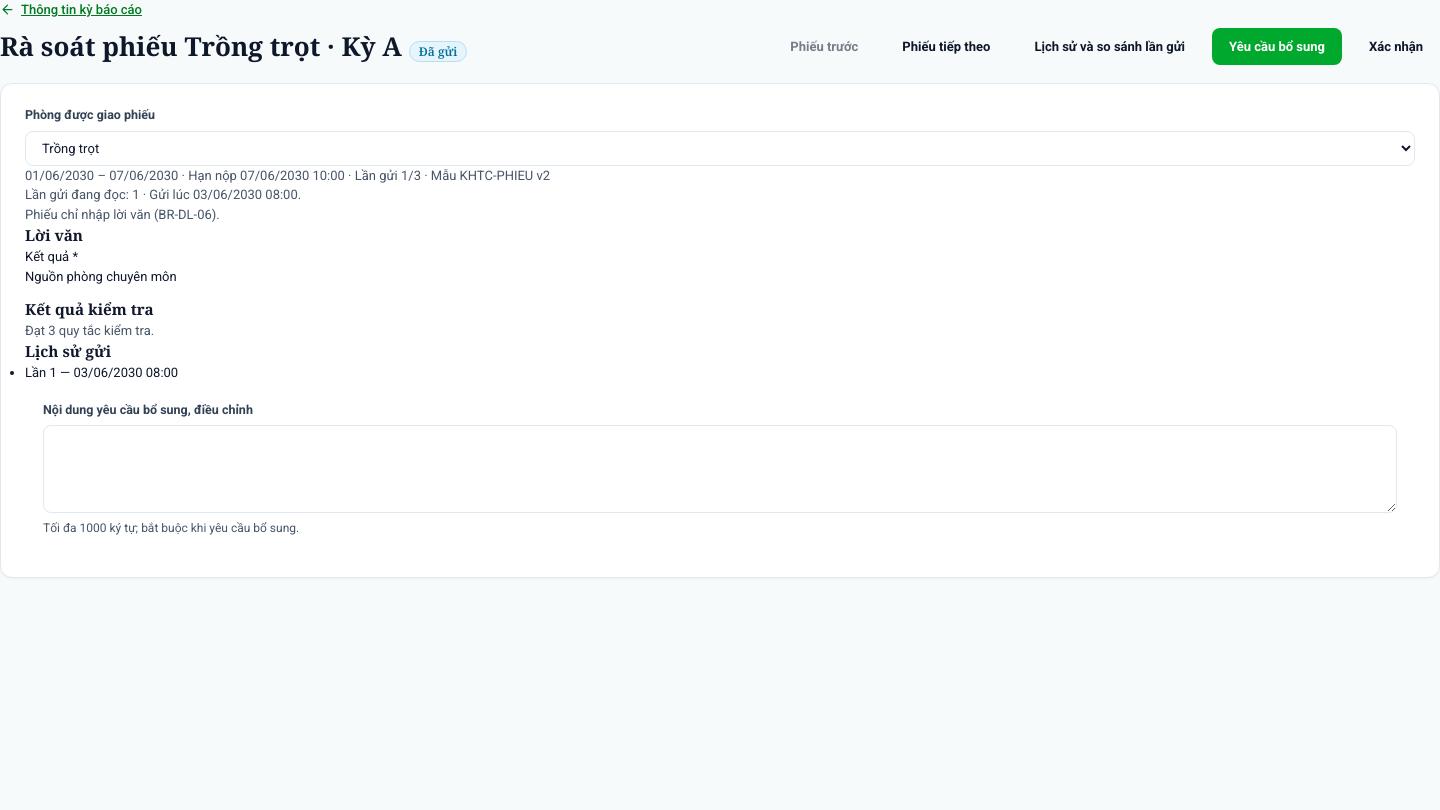
Test case: review241 — phản hồi và vòng đời tài nguyên › HTTP 401 buộc đọc lại và không báo thành công
What coordinates should you click on to do the following:
click the button "Xác nhận"
I would click on:
 (1396, 46)
Its box is [1352,28,1439,65].
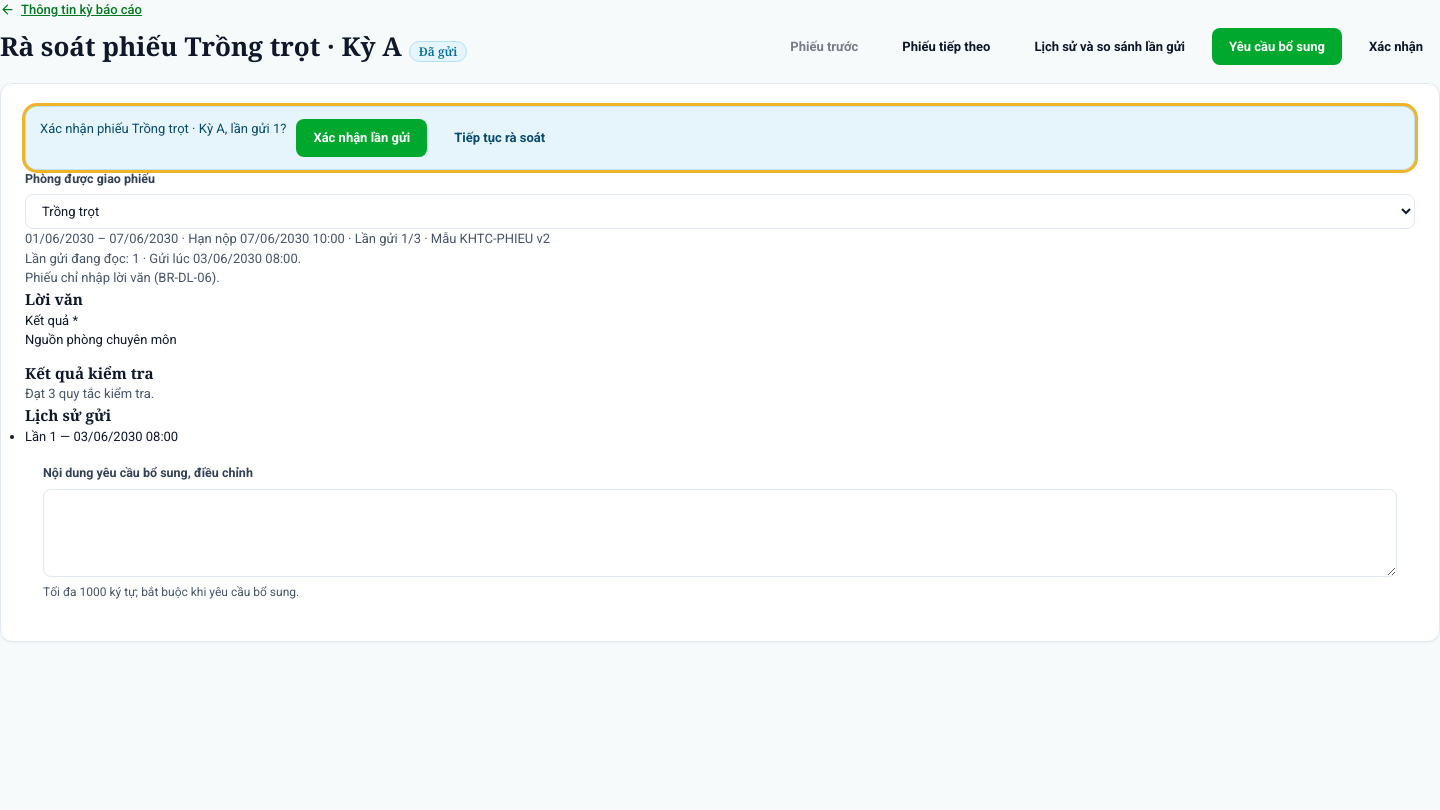
What coordinates should you click on to do the following:
click the button "Xác nhận lần gửi"
I would click on:
 (362, 138)
Its box is [296,119,427,156].
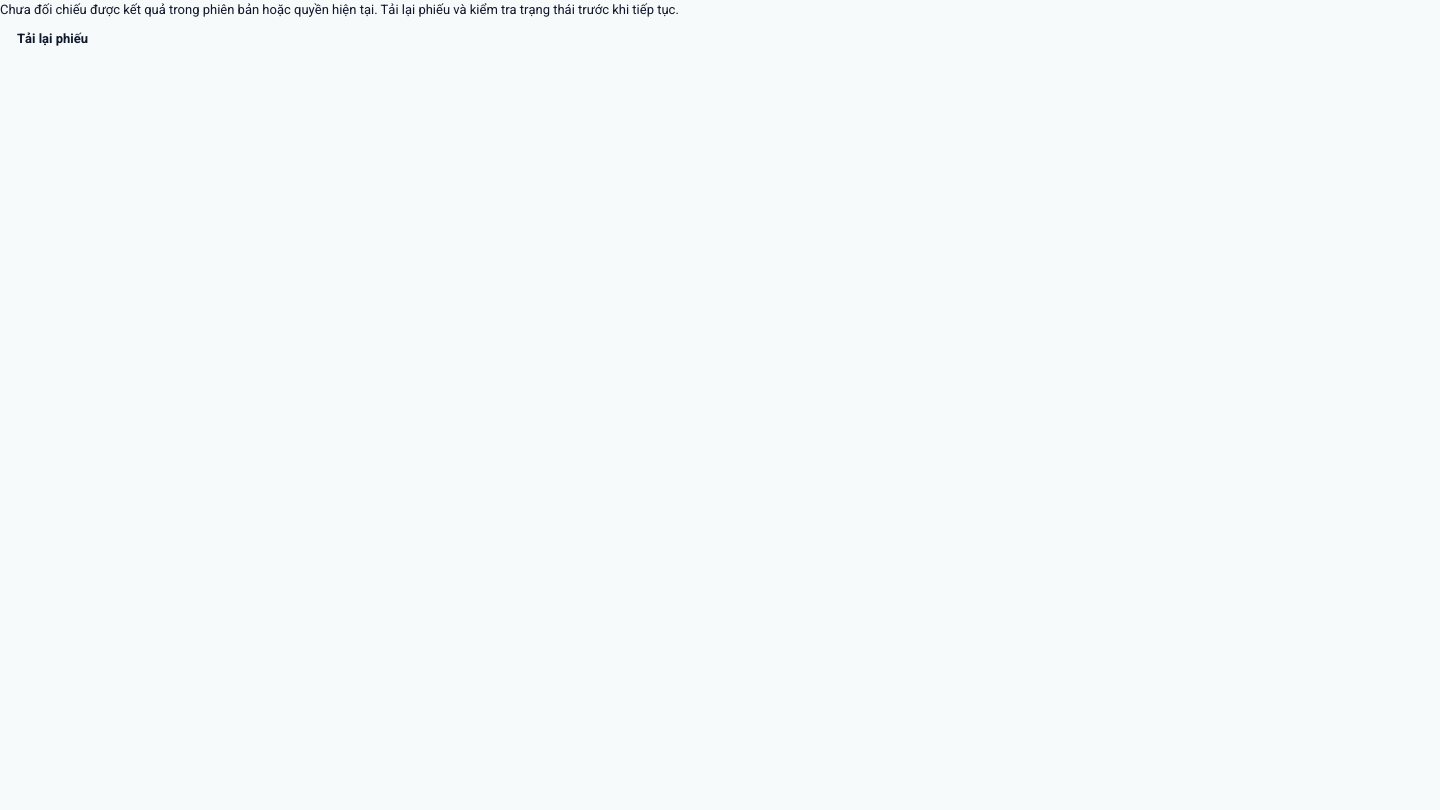
Expected: the button "Tải lại phiếu" is shown, [0,20,105,57]
Expected: the text "Nguồn phòng chuyên môn" is gone
